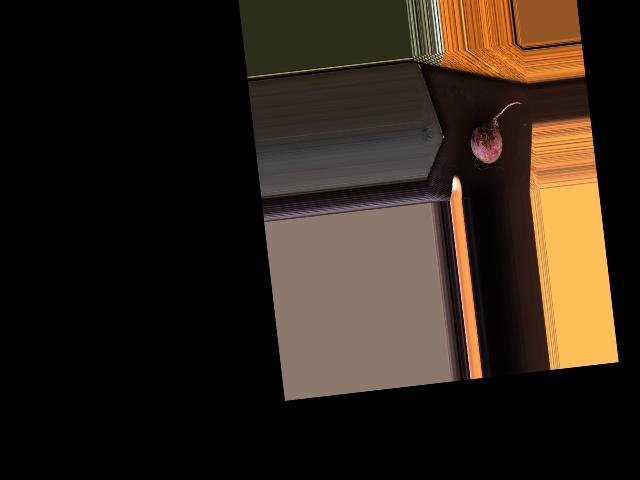beet: (466, 101, 528, 175)
